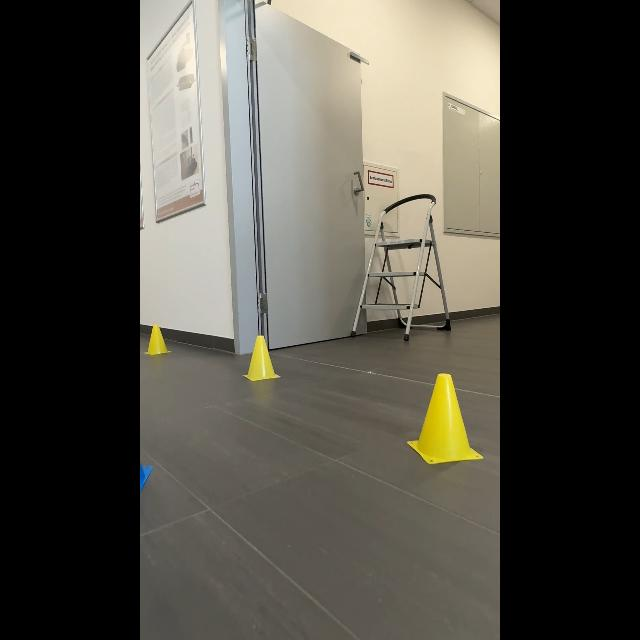yellow_cone: (402, 368, 486, 468), (239, 332, 285, 390), (143, 316, 175, 362)
